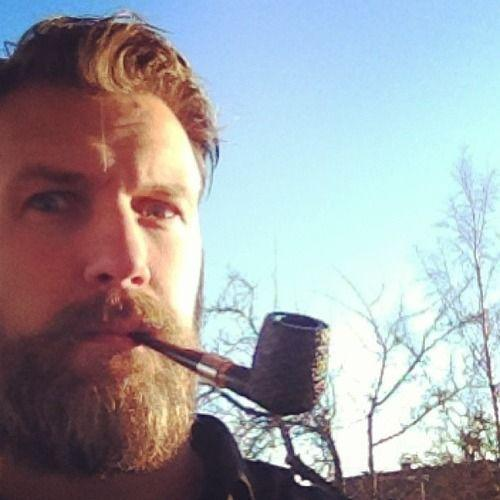trubka: (126, 310, 331, 417)
